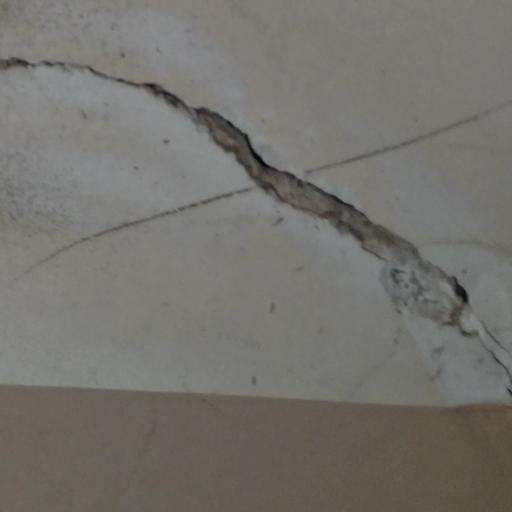major_crack: (0, 42, 512, 380)
